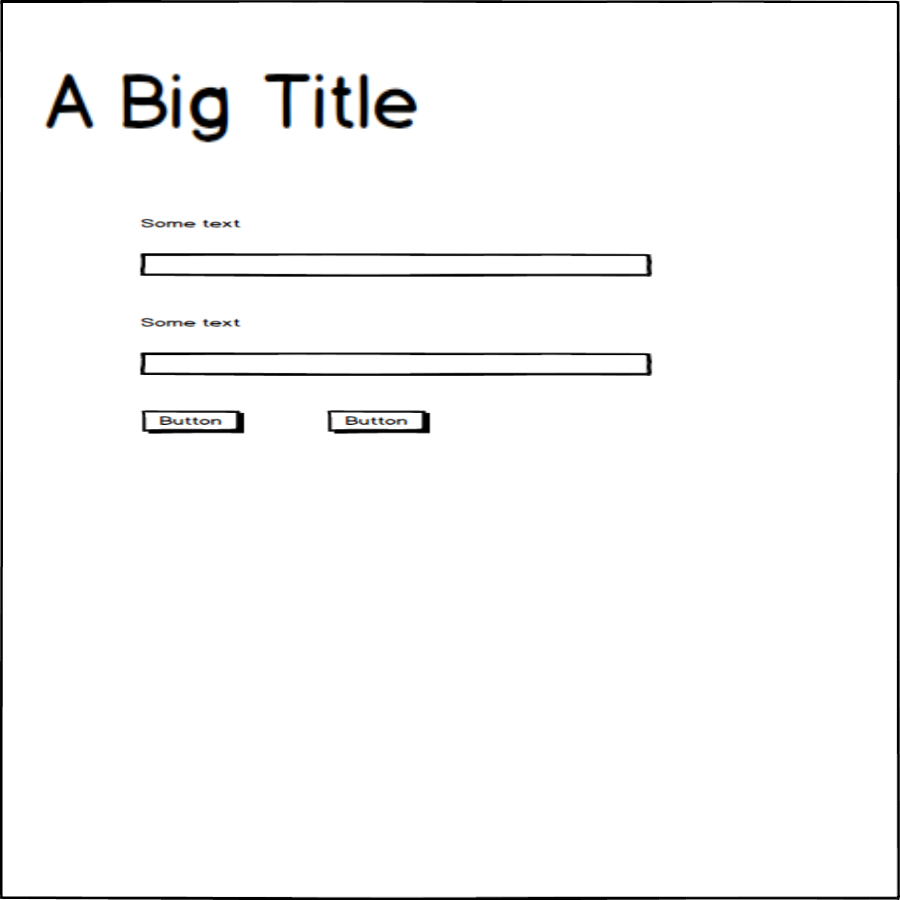button: (322, 401, 437, 438), (134, 406, 249, 440)
h1: (35, 62, 426, 151)
input: (135, 247, 656, 282), (138, 348, 657, 381)
label: (137, 307, 241, 337), (138, 212, 248, 234)
